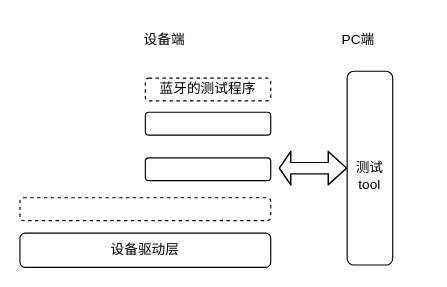
The diagram is 447 pixels wide and 287 high, and some of its shapes have lost their labels. The shapes that lost their labels are listed below. From the top down, each one's box as (x1, y1, x2, y2) in pixels, then its label:
(144, 111, 271, 135): BLE HCI层
(144, 157, 271, 181): BLE LL层
(19, 197, 271, 221): 芯片和所有外设的测试程序
